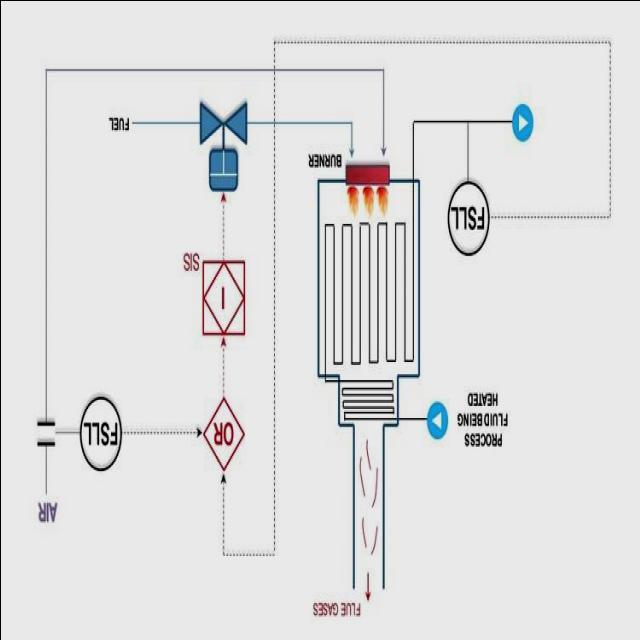Float Operated Valve: (196, 92, 247, 205)
